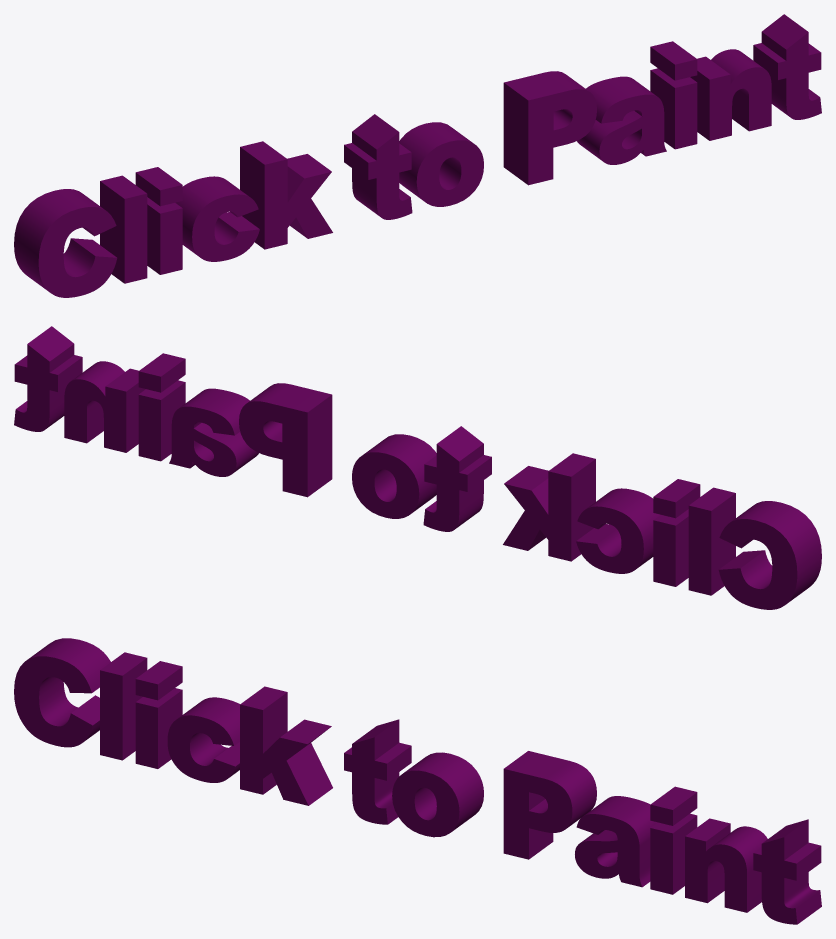
The model's file is TitlePush.fbx.
3 renders of one model, top to bottom at view 1: azimuth 30°, elevation 25°; view 2: azimuth 150°, elevation 25°; view 3: azimuth 330°, elevation 25°, orthographic.
Visible parts, largest first — view 1: typeMesh1; view 2: typeMesh1; view 3: typeMesh1.
Part boxes in pixels (x1=…): typeMesh1: x1=14, y1=14, x2=821, y2=297; typeMesh1: x1=14, y1=326, x2=821, y2=609; typeMesh1: x1=14, y1=638, x2=821, y2=924.
Size of the model in its own units: 25.76 by 2.76 by 1.4.
